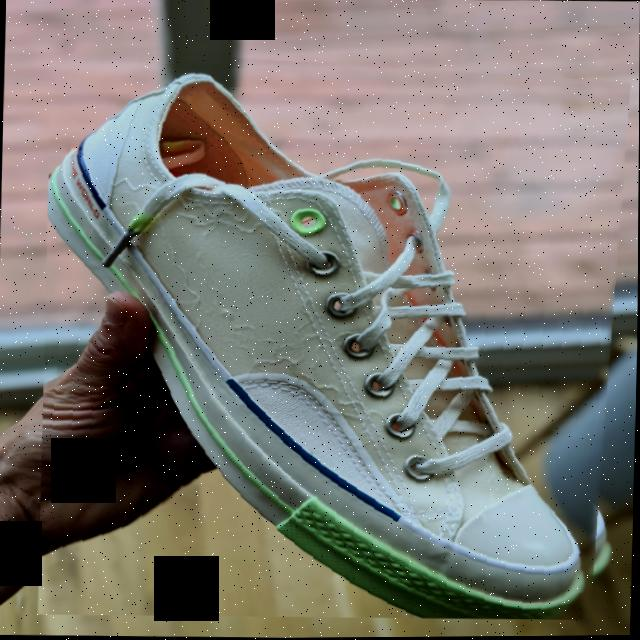shoe: (38, 43, 631, 624)
